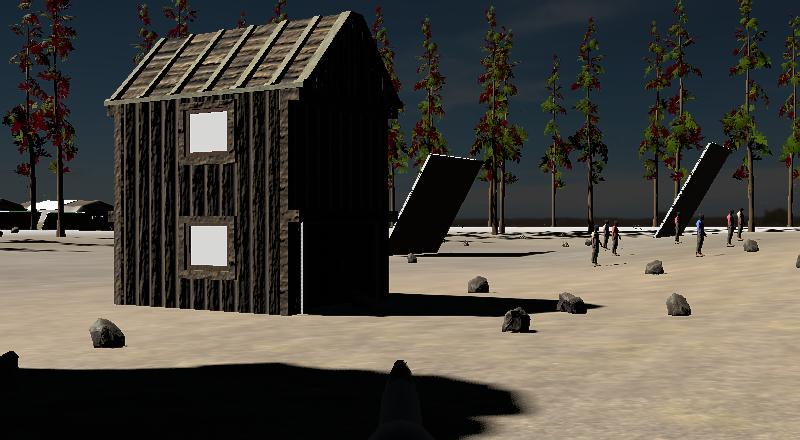House: (105, 12, 399, 317)
Human: (695, 214, 708, 258), (589, 227, 603, 267), (610, 220, 622, 256), (725, 208, 735, 247), (726, 208, 736, 246), (673, 214, 683, 245), (604, 220, 611, 249)
